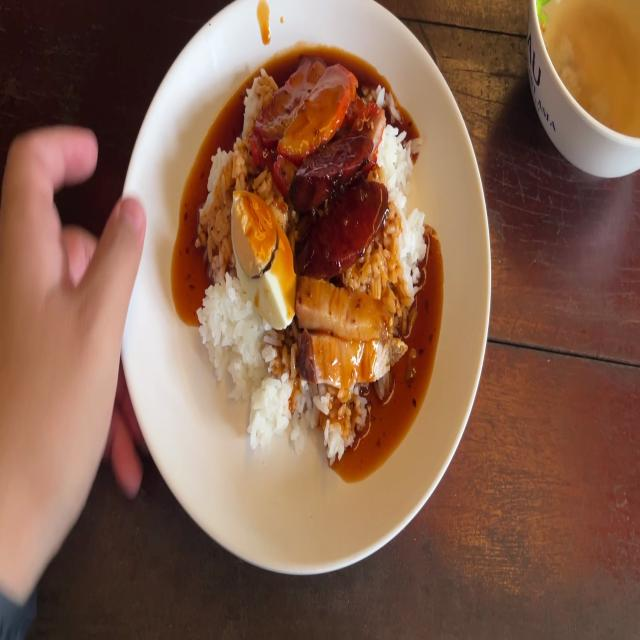01boiled_egg: (232, 179, 295, 324)
01chainese_sausage: (298, 130, 380, 275)
01crispy_pork: (301, 276, 404, 380)
01red_pork: (253, 55, 333, 148)
01red_pork_and_crispy_pork: (201, 71, 416, 435)
01rice: (230, 330, 306, 438), (201, 259, 250, 395)
